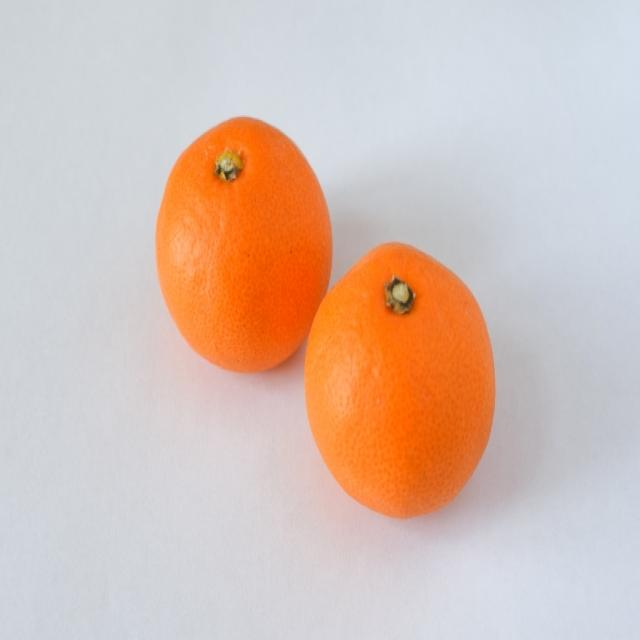Orange: (296, 236, 498, 520), (157, 111, 330, 379)
